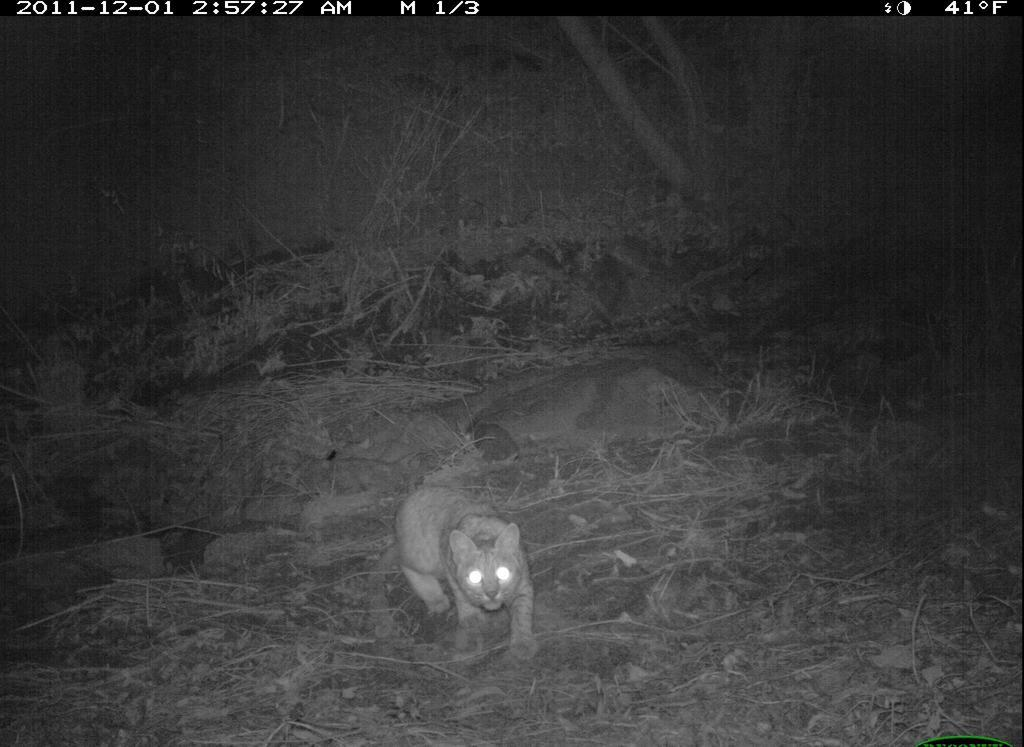bobcat: (386, 466, 557, 676)
